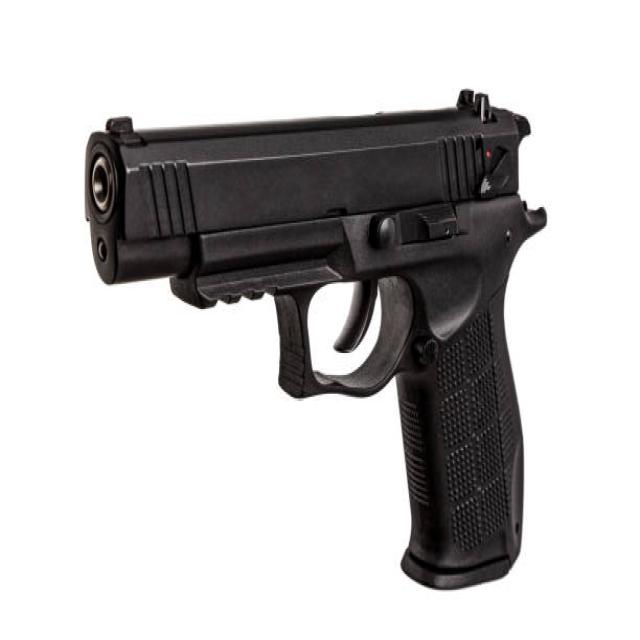pistol: (77, 81, 552, 597)
